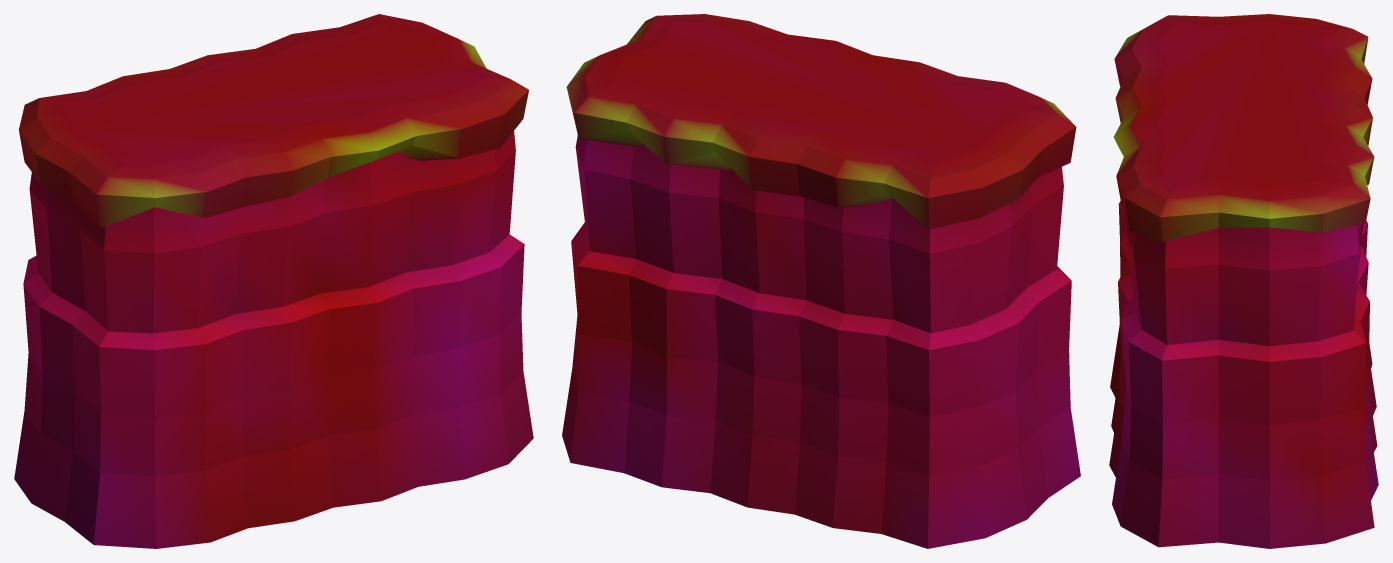
File: Cliff_Module_B.fbx
3 renders of one model, left to right at view 1: azimuth 30°, elevation 25°; view 2: azimuth 150°, elevation 25°; view 3: azimuth 270°, elevation 25°, orthographic. The views are drawn at different scales.
Parts seen in each view (by area): view 1: Cliff_Module_B; view 2: Cliff_Module_B; view 3: Cliff_Module_B.
Part boxes in pixels (x1=…): Cliff_Module_B: x1=14, y1=14, x2=533, y2=548; Cliff_Module_B: x1=562, y1=14, x2=1080, y2=548; Cliff_Module_B: x1=1109, y1=14, x2=1378, y2=548.
Size of the model in its own units: 4.46 by 3.47 by 2.48.
